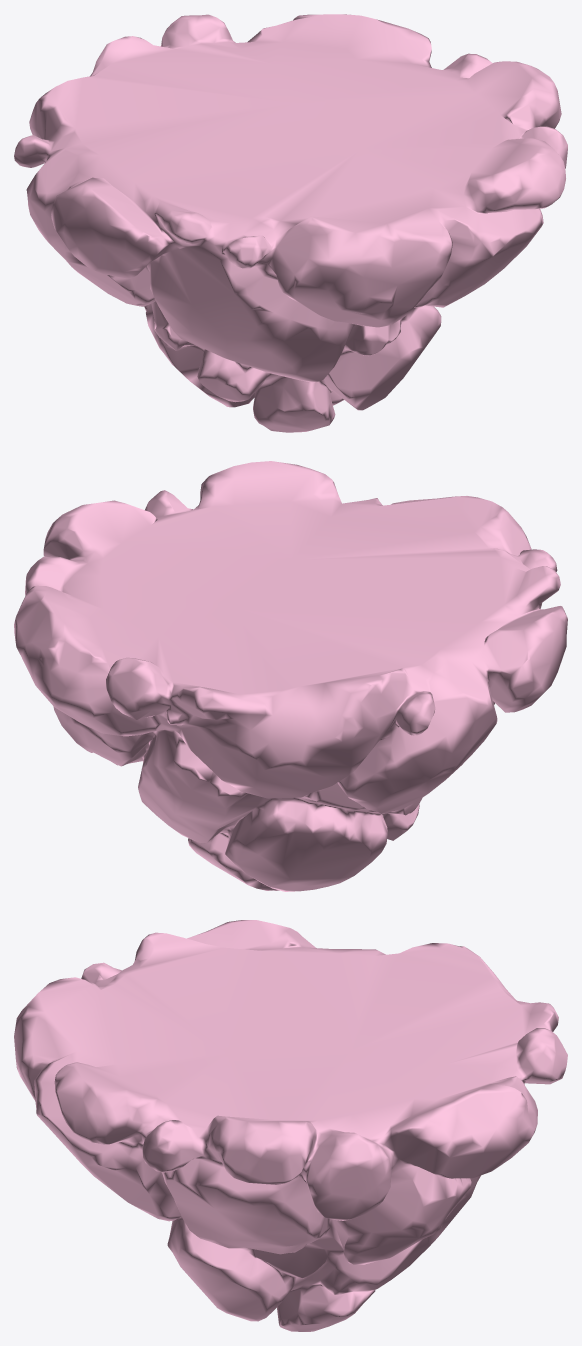
File: island_5_LOD3.fbx
The picture shows the model from 3 angles, top to bottom: view 1: azimuth 30°, elevation 25°; view 2: azimuth 150°, elevation 25°; view 3: azimuth 270°, elevation 25°; orthographic projection. The views are drawn at different scales.
Visible parts, largest first — view 1: Island_5_LOD3; view 2: Island_5_LOD3; view 3: Island_5_LOD3.
Boxes of the visible parts, box(x1,y1,x2,y2) form: Island_5_LOD3: box(14, 14, 567, 432); Island_5_LOD3: box(14, 461, 567, 891); Island_5_LOD3: box(14, 920, 567, 1331).
Size of the model in its own units: 1510 by 917 by 1507.
